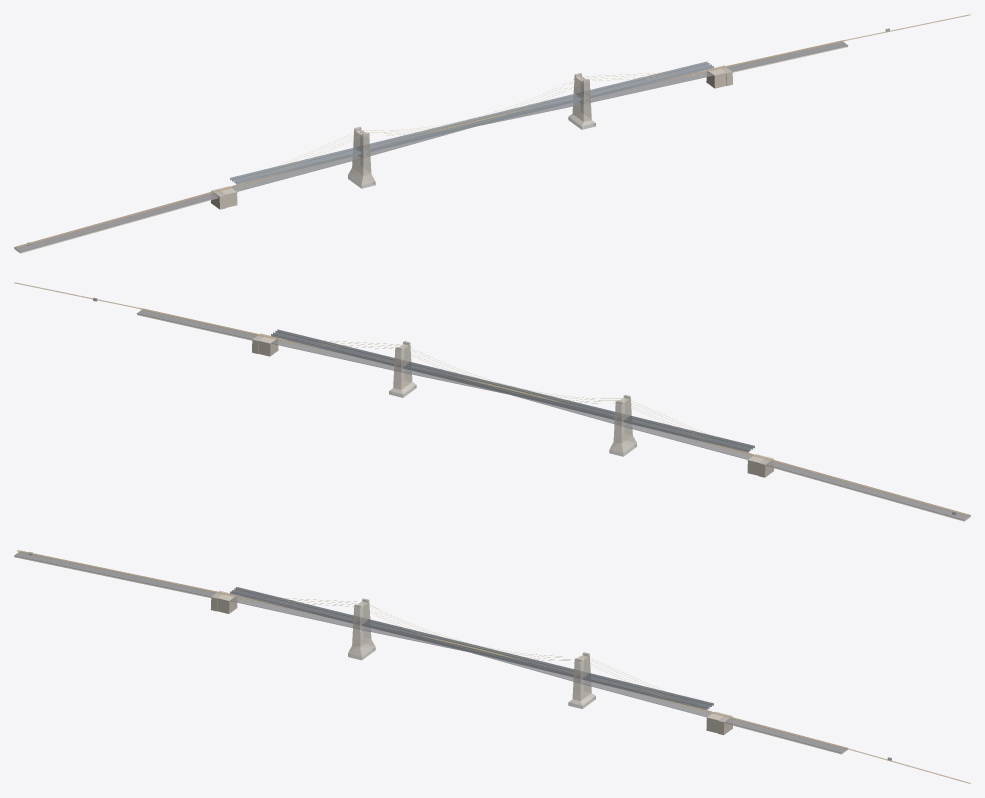
The model's file is control_skeleton.glb.
The picture shows the model from 3 angles, top to bottom: view 1: azimuth 30°, elevation 25°; view 2: azimuth 150°, elevation 25°; view 3: azimuth 330°, elevation 25°; orthographic projection.
Parts seen in each view (by area): view 1: deck_manhattan_approach, approach_girder_manhattan, deck_manhattan_side_span, deck_brooklyn_approach, deck_brooklyn_side_span, approach_girder_brooklyn, truss_outer_south_main_span, tower_manhattan_shaft, tower_brooklyn_shaft, truss_inner_south_main_span, truss_outer_north_main_span, truss_inner_north_main_span; view 2: deck_manhattan_approach, approach_girder_manhattan, deck_manhattan_side_span, deck_brooklyn_side_span, deck_brooklyn_approach, approach_girder_brooklyn, truss_outer_north_main_span, tower_manhattan_shaft, tower_brooklyn_shaft, truss_inner_north_main_span, truss_outer_south_main_span, truss_inner_south_main_span; view 3: deck_manhattan_approach, approach_girder_manhattan, deck_brooklyn_approach, deck_brooklyn_side_span, approach_girder_brooklyn, deck_manhattan_side_span, truss_outer_south_main_span, tower_manhattan_shaft, tower_brooklyn_shaft, truss_inner_south_main_span, truss_inner_north_main_span, truss_outer_north_main_span.
Boxes of the visible parts, x1,y1,x2,y2 form: deck_manhattan_approach: [14, 191, 218, 252]; approach_girder_manhattan: [14, 193, 217, 253]; deck_manhattan_side_span: [232, 155, 364, 191]; deck_brooklyn_approach: [727, 41, 848, 71]; deck_brooklyn_side_span: [582, 71, 713, 103]; approach_girder_brooklyn: [728, 42, 847, 72]; truss_outer_south_main_span: [365, 97, 584, 152]; tower_manhattan_shaft: [352, 129, 371, 175]; tower_brooklyn_shaft: [572, 75, 591, 121]; truss_inner_south_main_span: [363, 96, 583, 150]; truss_outer_north_main_span: [359, 93, 578, 147]; truss_inner_north_main_span: [361, 94, 580, 149]; deck_manhattan_approach: [766, 459, 970, 520]; approach_girder_manhattan: [767, 462, 970, 521]; deck_manhattan_side_span: [620, 423, 752, 459]; deck_brooklyn_side_span: [271, 339, 402, 371]; deck_brooklyn_approach: [136, 309, 257, 339]; approach_girder_brooklyn: [137, 310, 256, 340]; truss_outer_north_main_span: [400, 365, 619, 420]; tower_manhattan_shaft: [613, 397, 632, 443]; tower_brooklyn_shaft: [393, 343, 412, 389]; truss_inner_north_main_span: [401, 364, 621, 418]; truss_outer_south_main_span: [406, 361, 625, 415]; truss_inner_south_main_span: [404, 362, 623, 417]; deck_manhattan_approach: [14, 551, 216, 596]; approach_girder_manhattan: [14, 552, 215, 597]; deck_brooklyn_approach: [725, 718, 847, 753]; deck_brooklyn_side_span: [579, 680, 712, 717]; approach_girder_brooklyn: [725, 719, 847, 754]; deck_manhattan_side_span: [230, 596, 361, 628]; truss_outer_south_main_span: [359, 623, 578, 678]; tower_manhattan_shaft: [352, 601, 371, 647]; tower_brooklyn_shaft: [572, 654, 591, 700]; truss_inner_south_main_span: [360, 621, 580, 676]; truss_inner_north_main_span: [363, 619, 583, 674]; truss_outer_north_main_span: [365, 618, 584, 673].
Bounding box in the file's own units: 2103 × 108 × 52.43.
